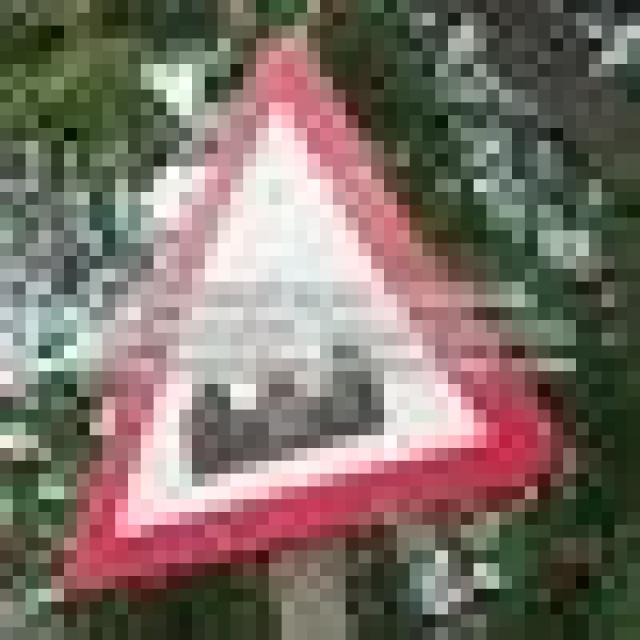horn_prohibited: (39, 26, 564, 576)
